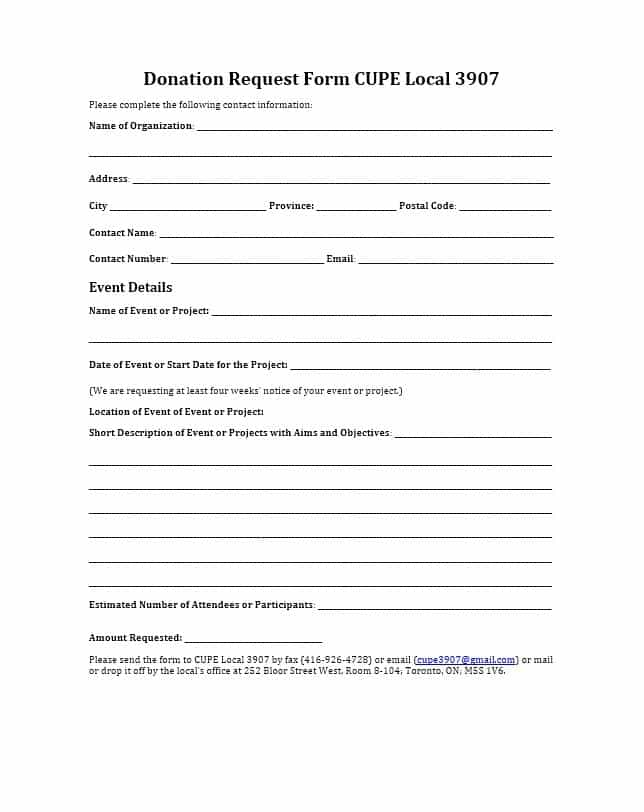textline: (85, 135, 555, 160), (84, 446, 556, 470), (84, 323, 557, 346), (80, 519, 558, 541), (81, 545, 556, 567), (84, 496, 561, 517), (129, 164, 556, 187), (76, 572, 558, 591), (84, 474, 558, 493), (157, 219, 559, 241), (209, 297, 553, 320), (193, 114, 555, 134), (287, 349, 556, 373), (356, 243, 559, 267), (315, 594, 555, 614), (107, 193, 267, 214), (166, 246, 326, 267), (392, 421, 553, 441), (181, 627, 325, 646), (456, 192, 554, 214), (314, 193, 399, 214)
